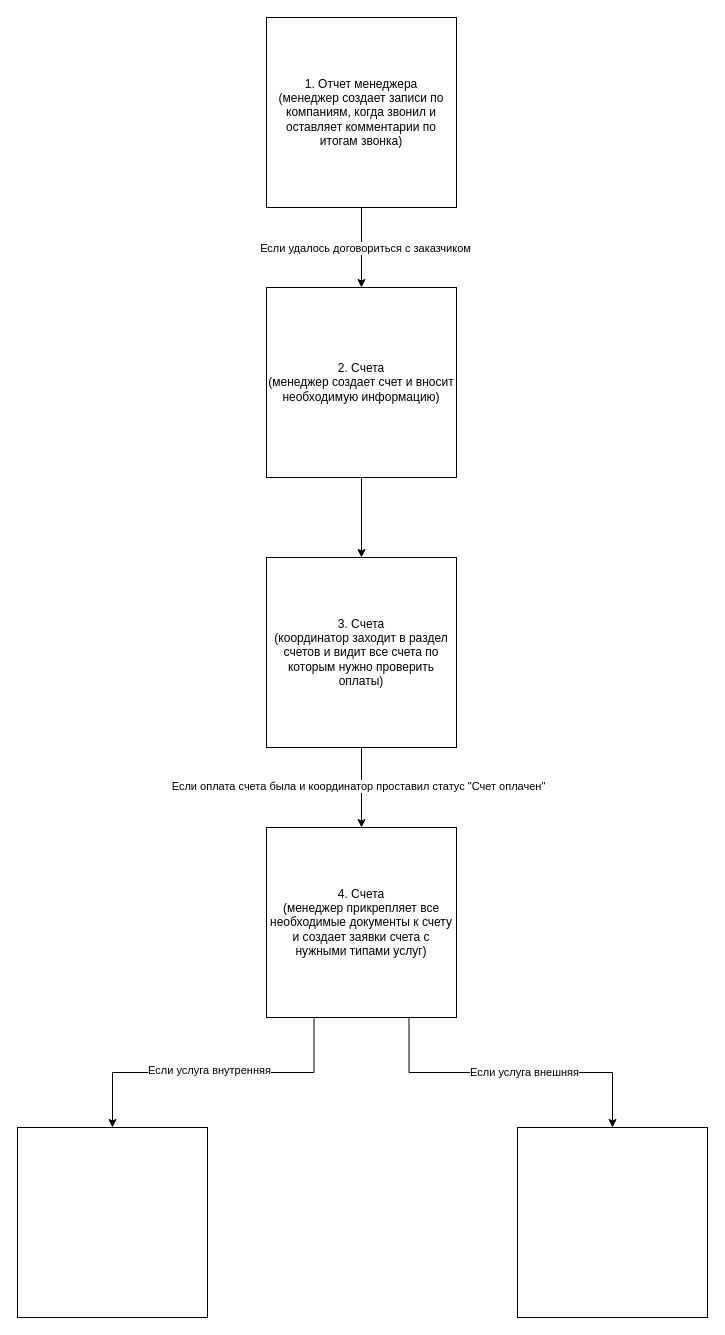
This 725x1335 diagram has some shape labels left out. Each missing label, with the box of its shape:
5. Заявки (менеджер видит все заявки, которые висят на нем и выполняет их): (516, 1126, 708, 1318)
5. Заявки (методист видит все заявки, которые висят на нем и выполняет их): (16, 1126, 208, 1318)
